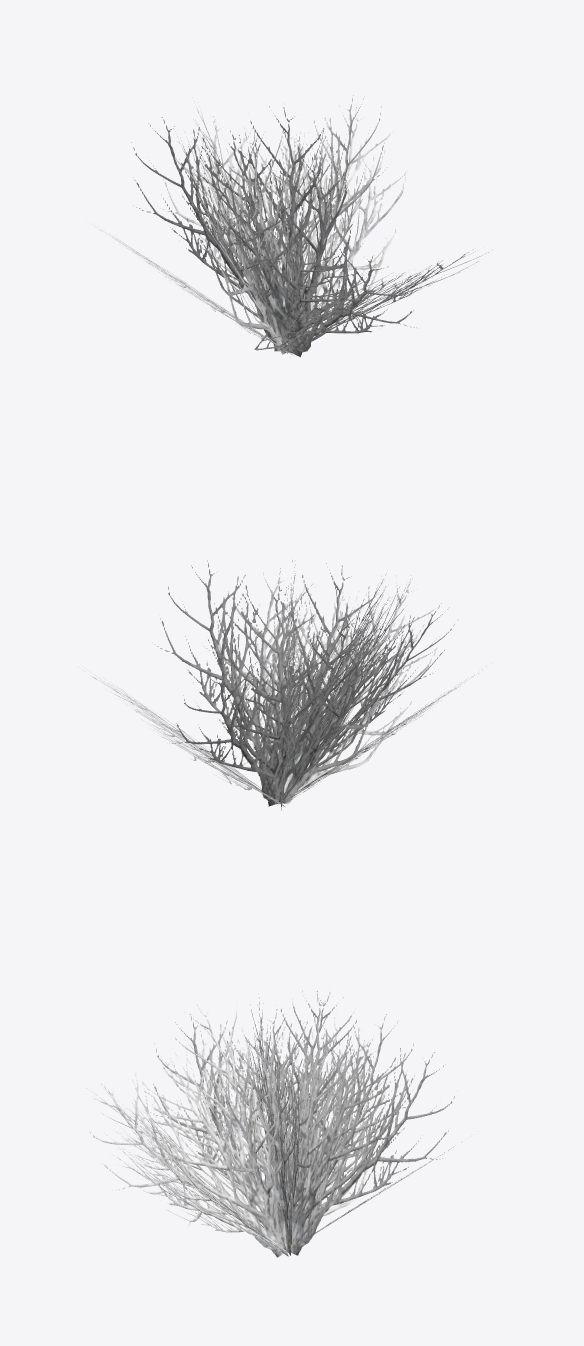
The model's file is winter bush4.FBX.
3 views of the same model, one above another, from view 1: azimuth 30°, elevation 25°; view 2: azimuth 150°, elevation 25°; view 3: azimuth 270°, elevation 25° (orthographic). The views are drawn at different scales.
Parts seen in each view (by area): view 1: winter bush4; view 2: winter bush4; view 3: winter bush4.
Part boxes in pixels (left/top/right/bottom): winter bush4: left=99, top=95, right=488, bottom=357; winter bush4: left=81, top=560, right=478, bottom=810; winter bush4: left=86, top=990, right=461, bottom=1257.
Size of the model in its own units: 22.52 by 17.56 by 27.15.
